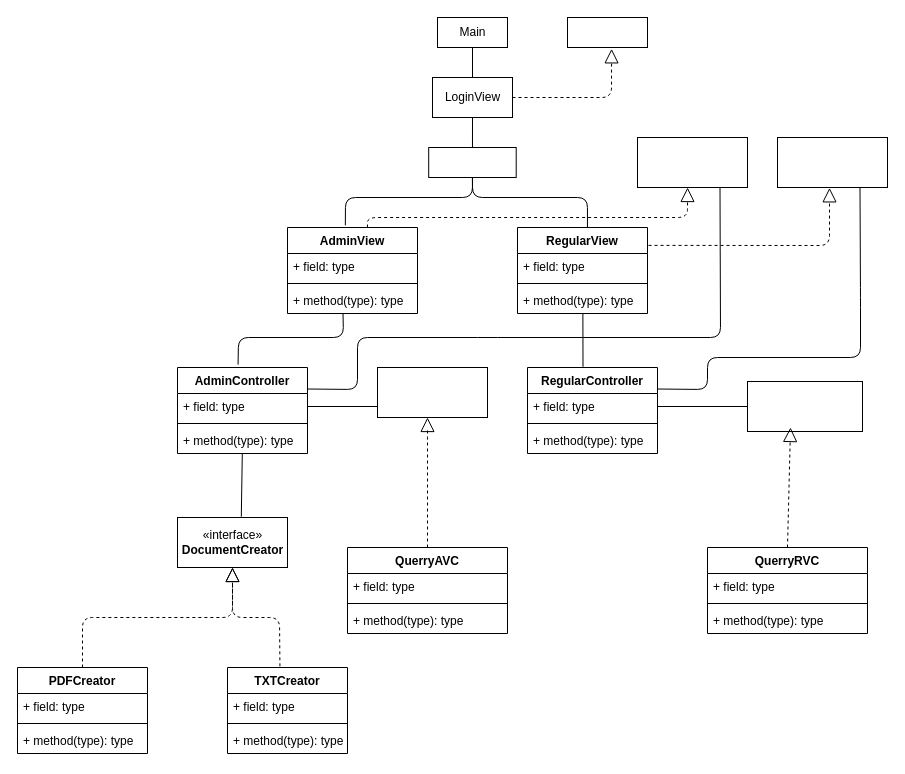
Image size: 905x774. Some labels were removed from this diagram. The shapes that lost their labels are listed below. From the top down, each one's centre as x and y in pixels, then its label:
point 607,32: «interface» ILoginView
point 472,162: LoginController
point 692,162: «interface» IAdminView
point 832,162: «interface» IRegularView
point 432,392: «interface» IQuerryAVC
point 804,406: «interface» IQuerryRVC
